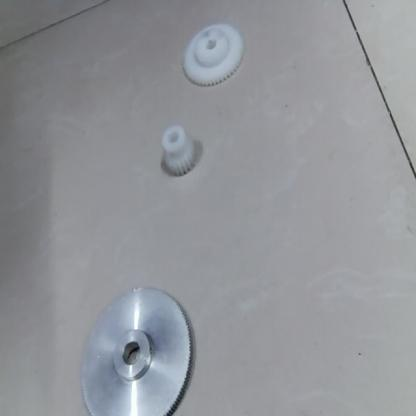FOD: (73, 290, 201, 415), (181, 22, 250, 87), (157, 125, 199, 188)
